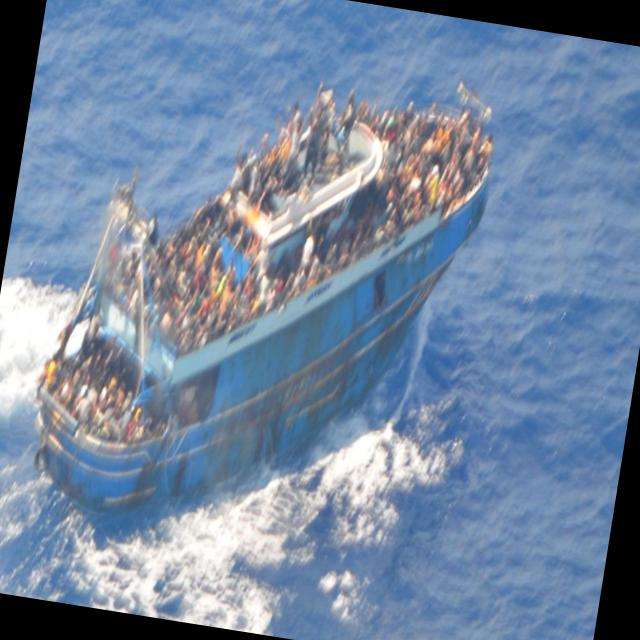boat: (6, 0, 515, 605)
